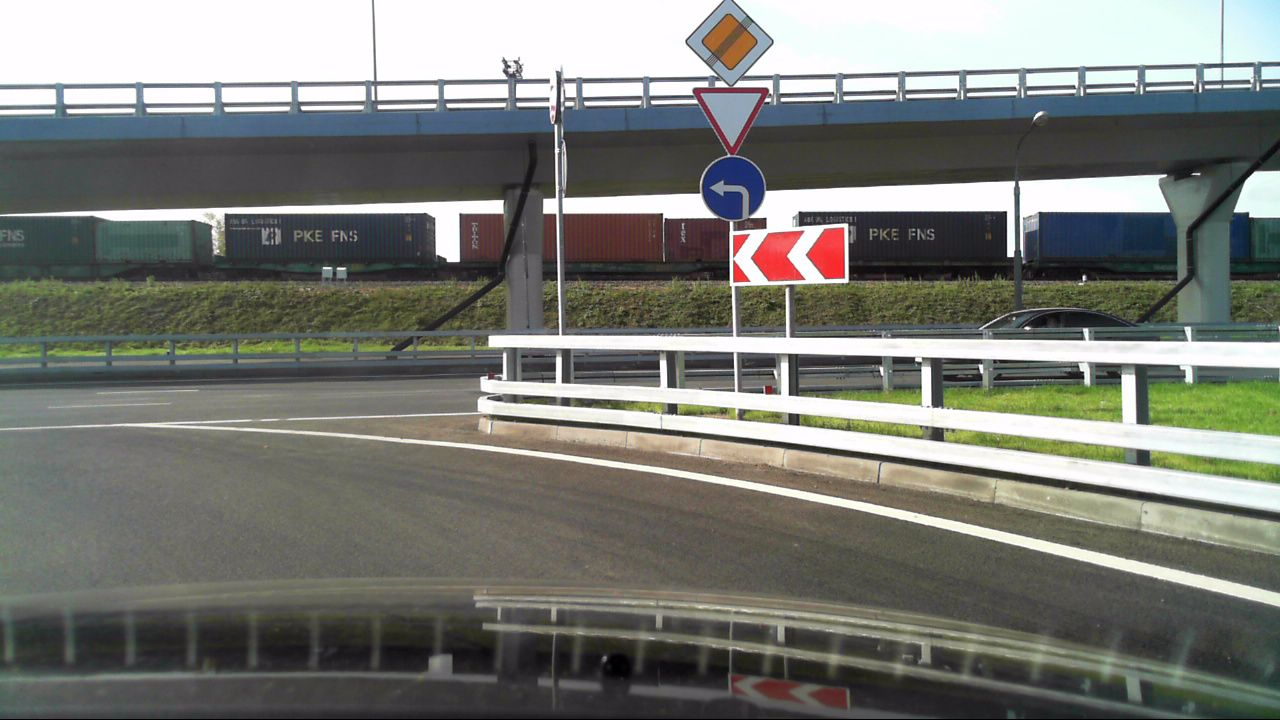main road: (685, 0, 775, 87)
